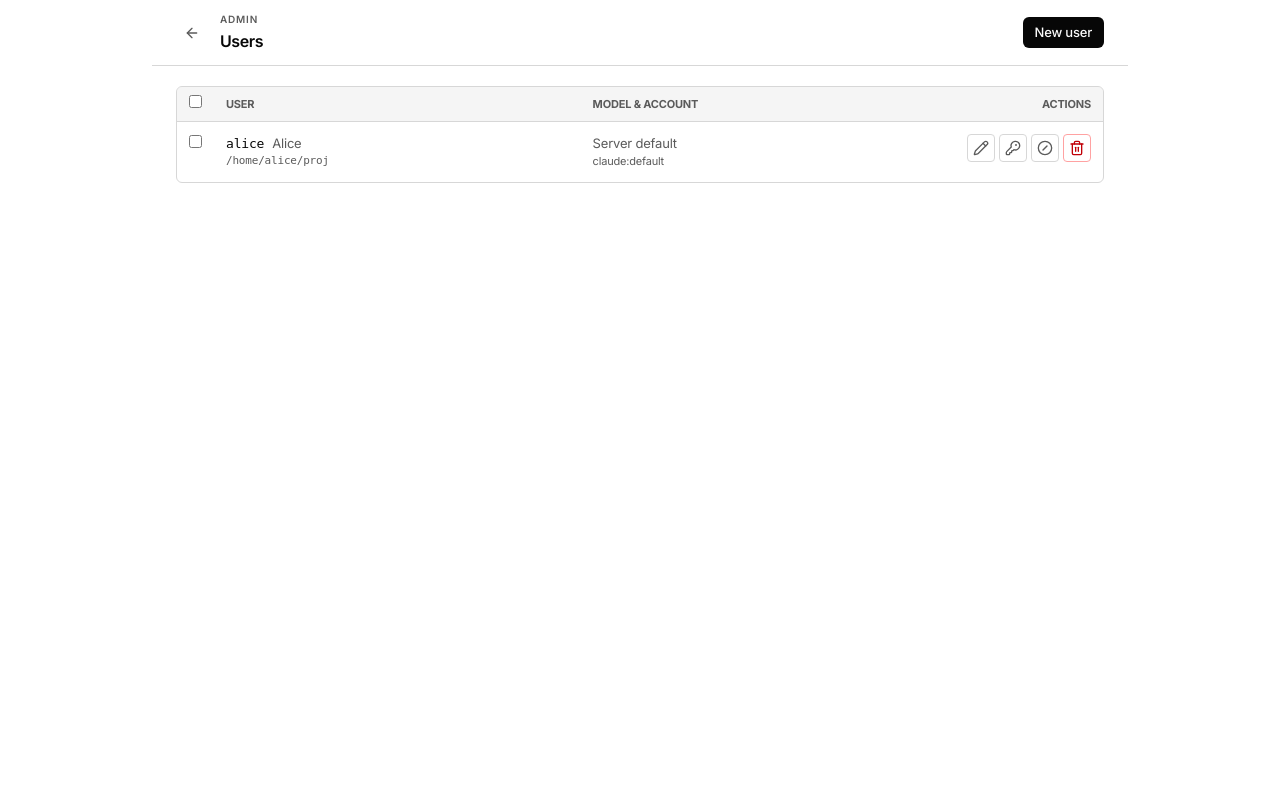
Test case: AdminUsers section composition › keeps the password dialog open and shows the reason when the reset is rejected
The image size is (1280, 800).
Step 1. Click the button named "Reset password" → (1013, 148), box x1=999 y1=134 x2=1027 y2=162
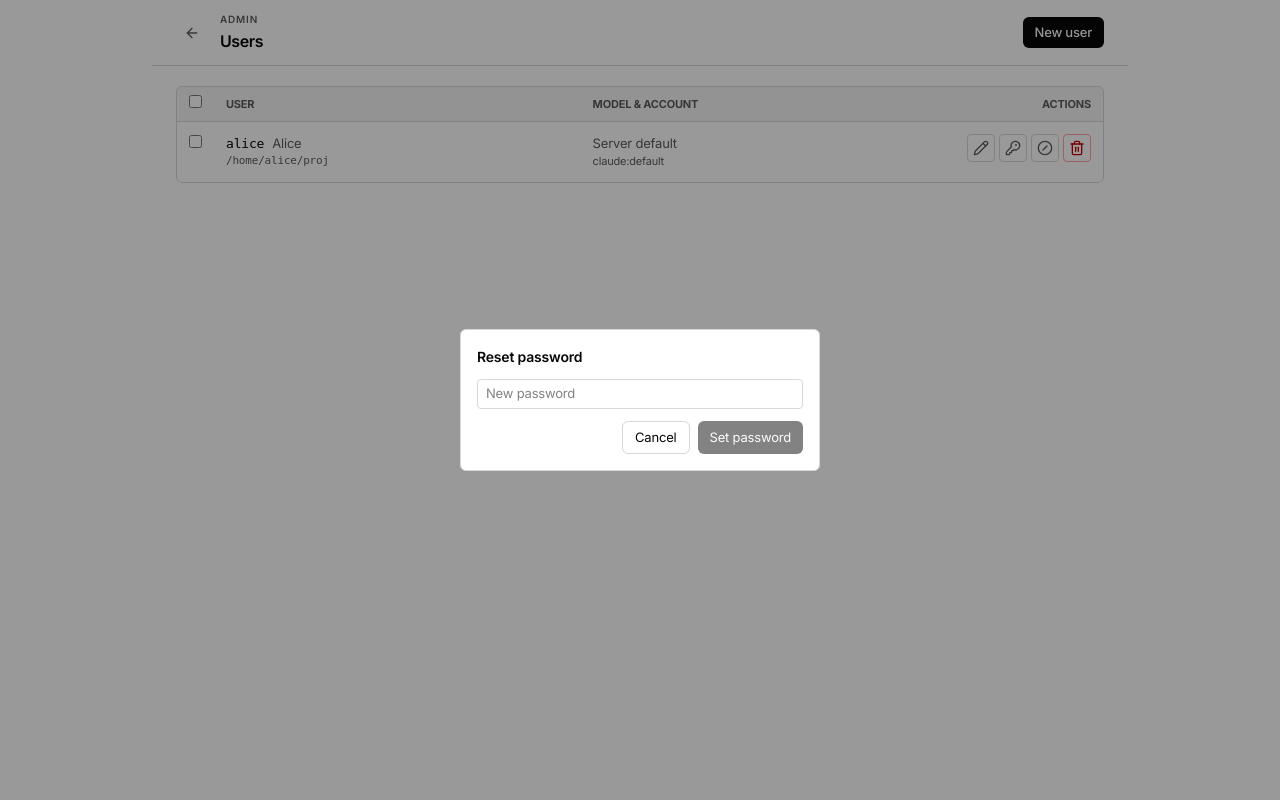
Step 2. Type "x" into the password field with placeholder "New password" → (640, 394), box x1=477 y1=379 x2=803 y2=408
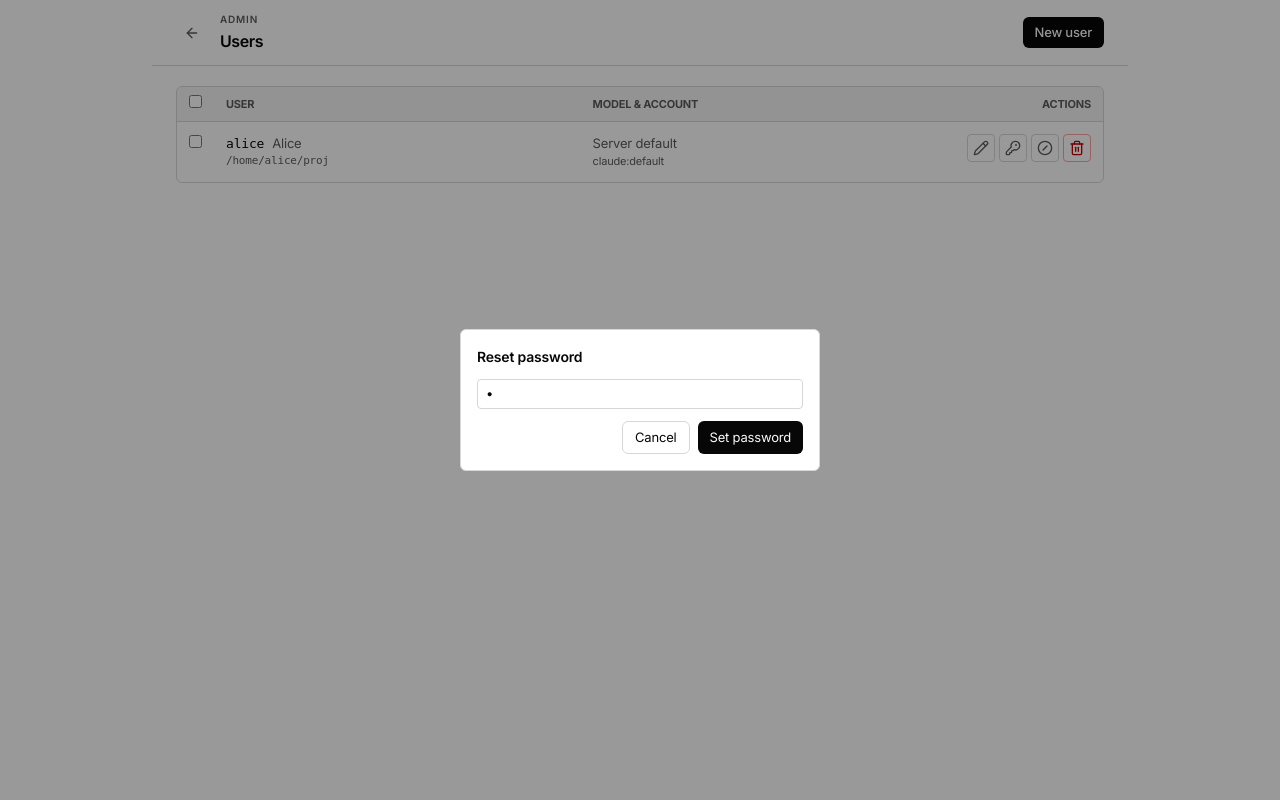
Step 3. Click the button "Set password" → (750, 437), box x1=698 y1=420 x2=803 y2=454
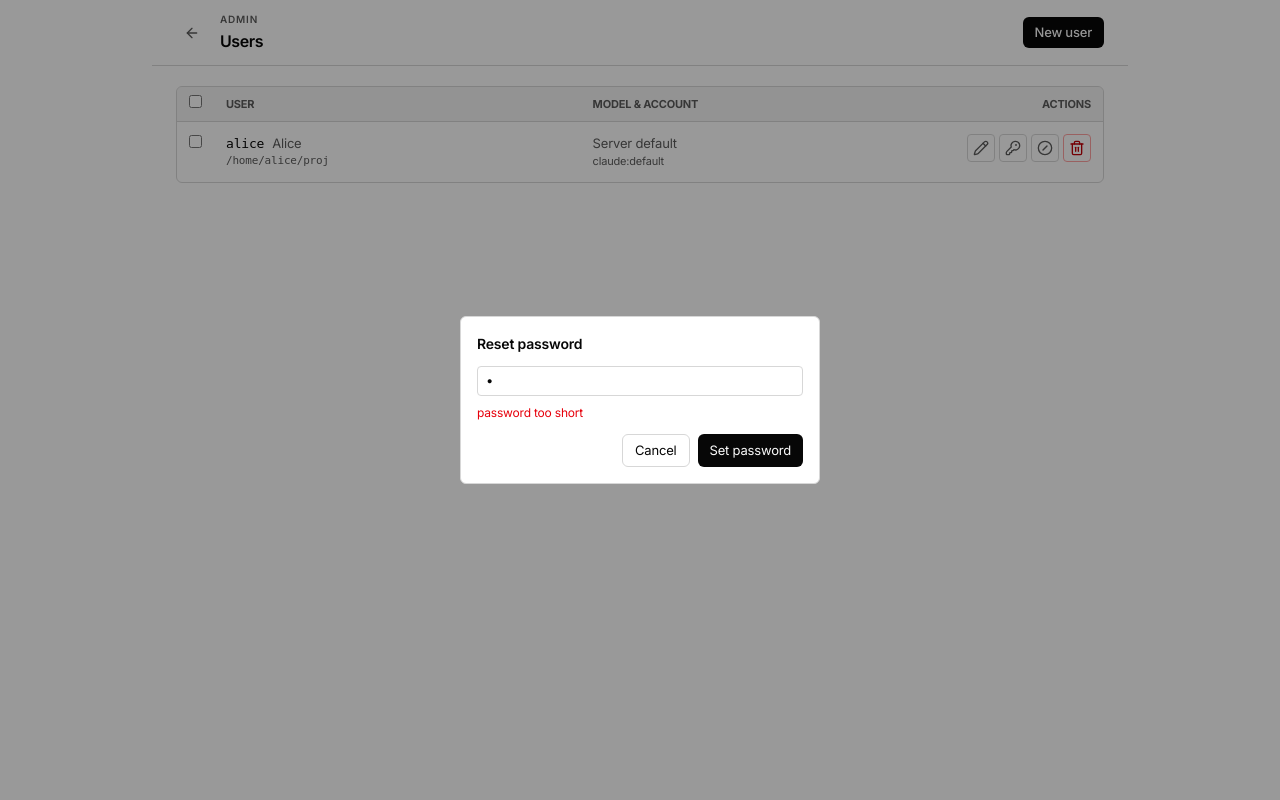
Now the element with test id "password-reset-dialog" is shown
Now the message with test id "password-reset-error" reads "password too short", box x1=477 y1=404 x2=583 y2=420
